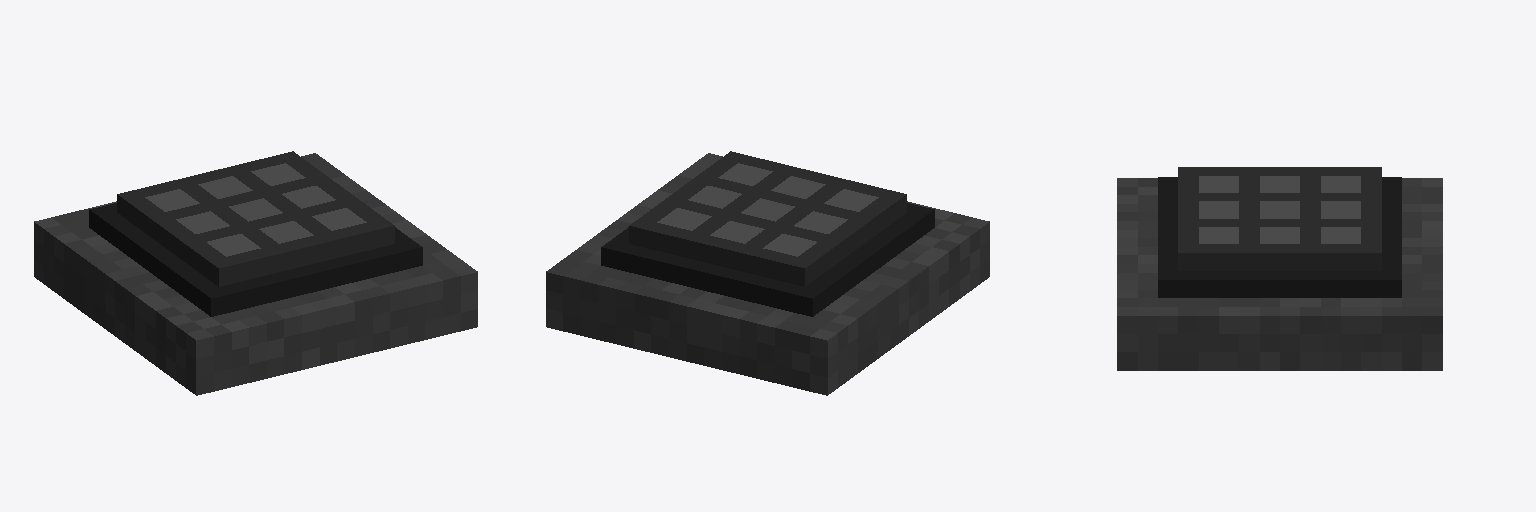
3 renders of one model, left to right at view 1: azimuth 30°, elevation 25°; view 2: azimuth 150°, elevation 25°; view 3: azimuth 270°, elevation 25°, orthographic.
Visible parts, largest first — view 1: CaveTower; view 2: CaveTower; view 3: CaveTower.
Boxes of the visible parts, x1=… form: CaveTower: x1=34, y1=151, x2=477, y2=395; CaveTower: x1=546, y1=151, x2=989, y2=395; CaveTower: x1=1117, y1=167, x2=1442, y2=370.
Size of the model in its own units: 16 by 5 by 16.
1 materials, 1 textured.